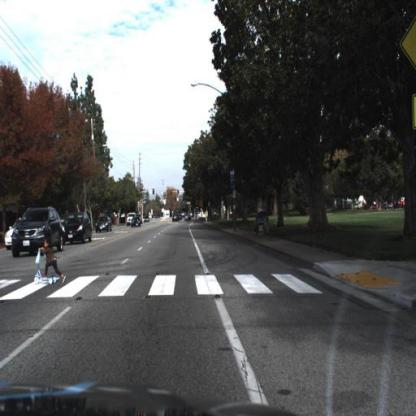car: (12, 205, 65, 261), (64, 210, 96, 247), (95, 214, 117, 235), (131, 212, 145, 230), (172, 212, 184, 228)
pedestrian: (34, 237, 68, 286)
